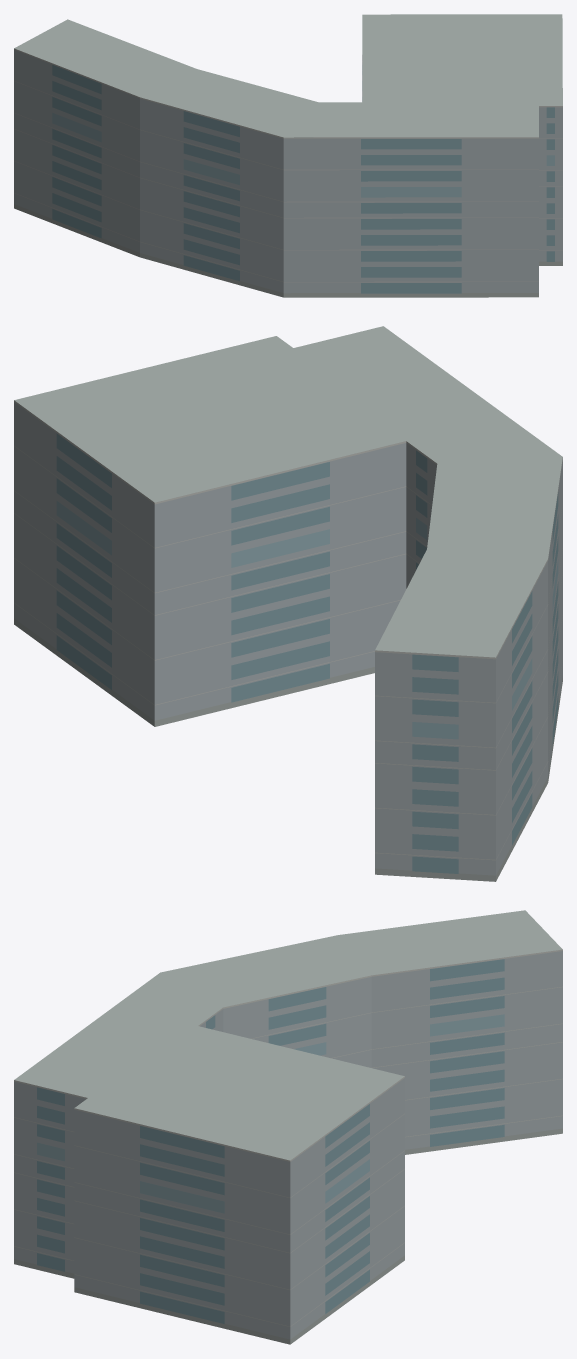
File: residential-1a179346-8b64-4b6b-9784-6bca5496d63d.glb
3 renders of one model, top to bottom at view 1: azimuth 30°, elevation 25°; view 2: azimuth 150°, elevation 25°; view 3: azimuth 270°, elevation 25°, orthographic. The views are drawn at different scales.
Parts seen in each view (by area): view 1: residential-1a179346-8b64-4b6b-9784-6bca5496d63d.tmp; view 2: residential-1a179346-8b64-4b6b-9784-6bca5496d63d.tmp; view 3: residential-1a179346-8b64-4b6b-9784-6bca5496d63d.tmp.
Boxes of the visible parts, x1=… form: residential-1a179346-8b64-4b6b-9784-6bca5496d63d.tmp: x1=14, y1=14, x2=562, y2=297; residential-1a179346-8b64-4b6b-9784-6bca5496d63d.tmp: x1=14, y1=326, x2=562, y2=881; residential-1a179346-8b64-4b6b-9784-6bca5496d63d.tmp: x1=14, y1=910, x2=562, y2=1344.
Size of the model in its own units: 88.96 by 30.5 by 82.42.
